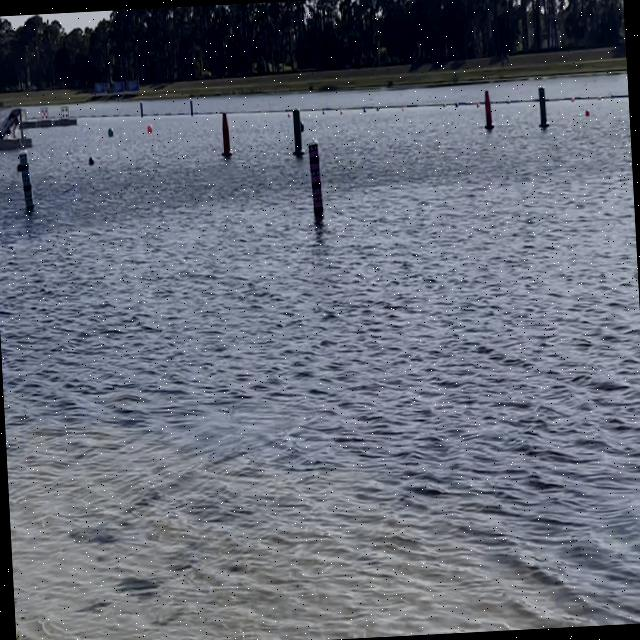buoy: (107, 125, 114, 138), (88, 156, 95, 166), (147, 124, 153, 134)
